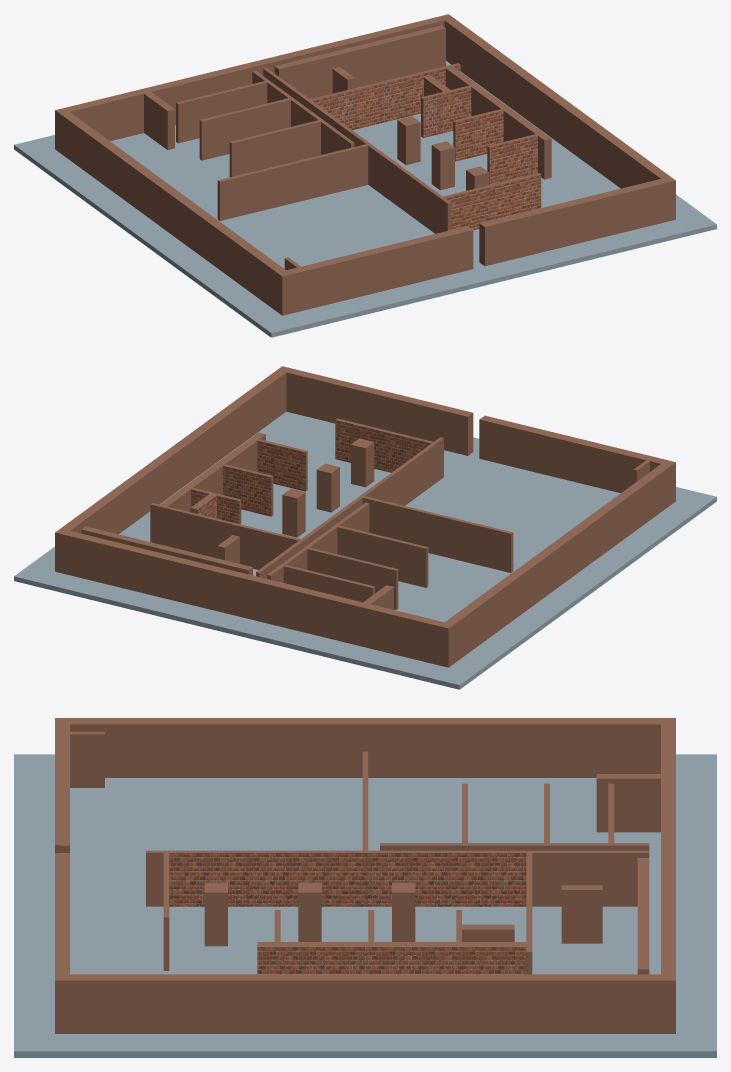
Rendered from walls_floor_4.dae.
The picture shows the model from 3 angles, top to bottom: view 1: azimuth 30°, elevation 25°; view 2: azimuth 150°, elevation 25°; view 3: azimuth 270°, elevation 25°; orthographic projection. The views are drawn at different scales.
Parts seen in each view (by area): view 1: walls, floorplane; view 2: walls, floorplane; view 3: walls, floorplane.
Boxes of the visible parts, x1,y1,x2,y2 form: walls: (55, 14, 675, 315); floorplane: (14, 61, 716, 337); walls: (55, 366, 675, 667); floorplane: (14, 411, 716, 689); walls: (55, 718, 675, 1033); floorplane: (14, 754, 716, 1057).
Bounding box in the file's own units: 238 × 238 × 22.39.
